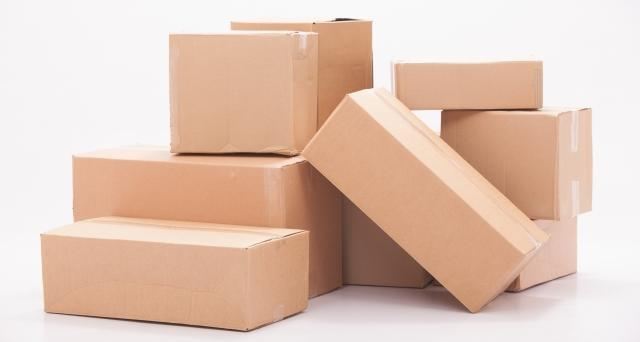box: (322, 90, 542, 307), (160, 13, 381, 159), (33, 217, 316, 326), (67, 146, 344, 231), (441, 112, 595, 220), (486, 197, 587, 284), (391, 55, 551, 109)
